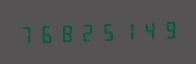eight: (57, 21, 76, 44)
five: (97, 20, 116, 43)
four: (137, 18, 156, 41)
nine: (157, 17, 176, 41)
one: (117, 19, 136, 42)
seven: (17, 22, 36, 46)
six: (37, 22, 56, 45)
two: (77, 20, 96, 44)
